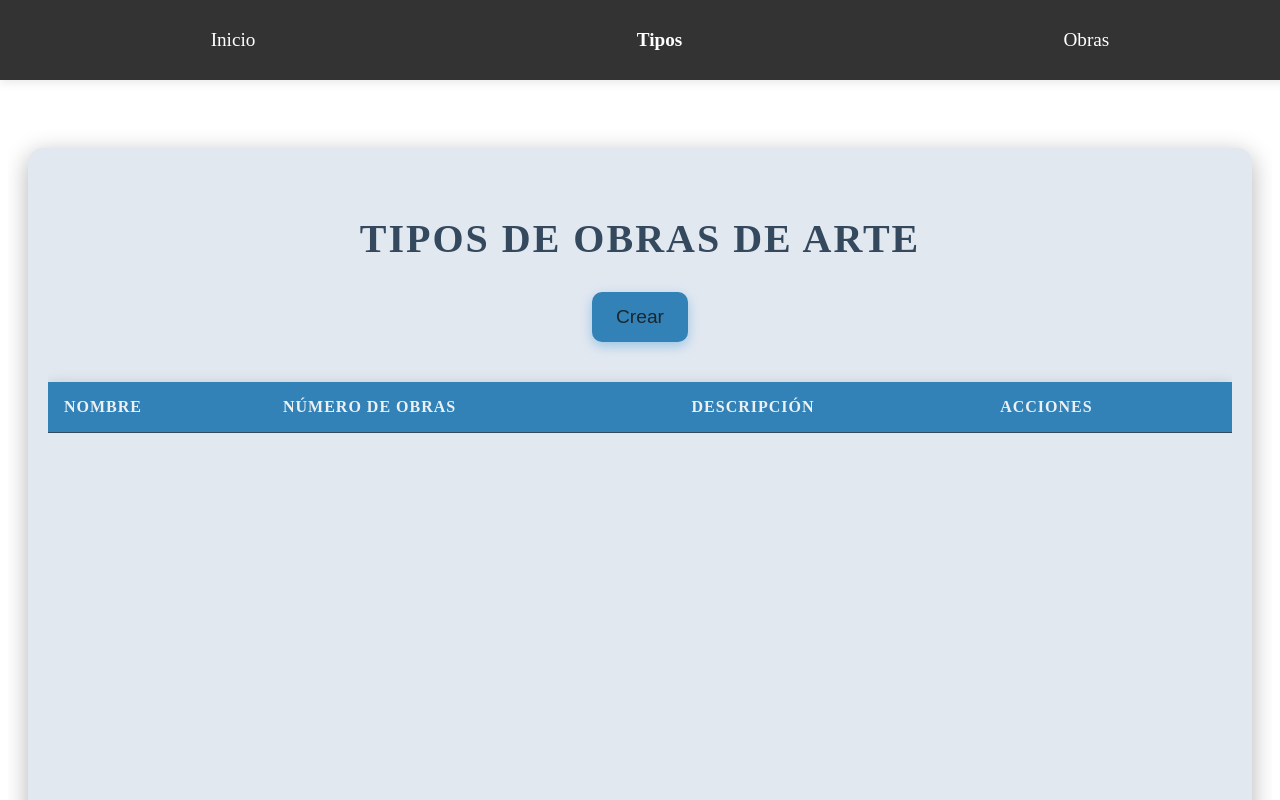
Scenario: Tipo Page › Ver formulario de creacion Tipo
Click the button with class "create-button". click: (640, 317)
box: [592, 292, 688, 342]
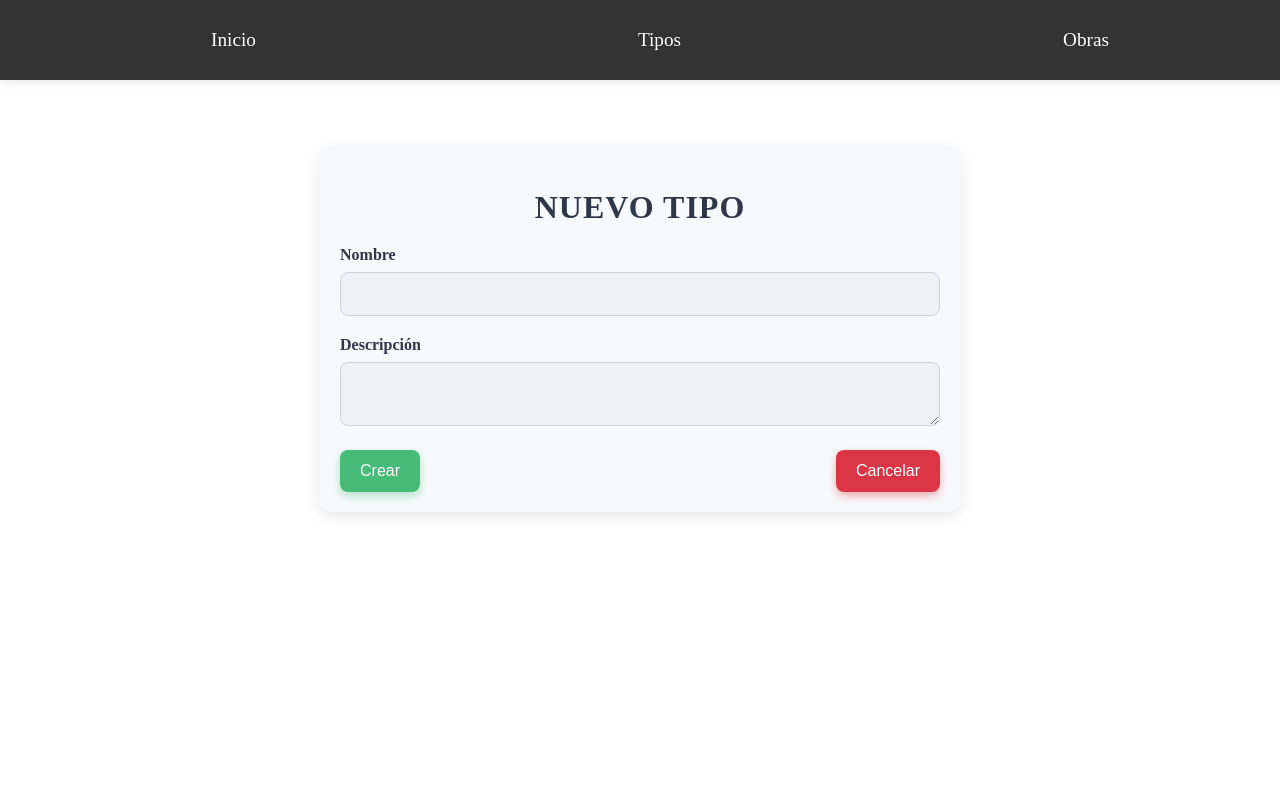
Now the heading "Nuevo Tipo" is shown, box [535, 189, 745, 225]
